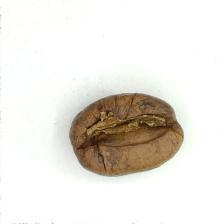NG: (83, 105, 175, 161)
